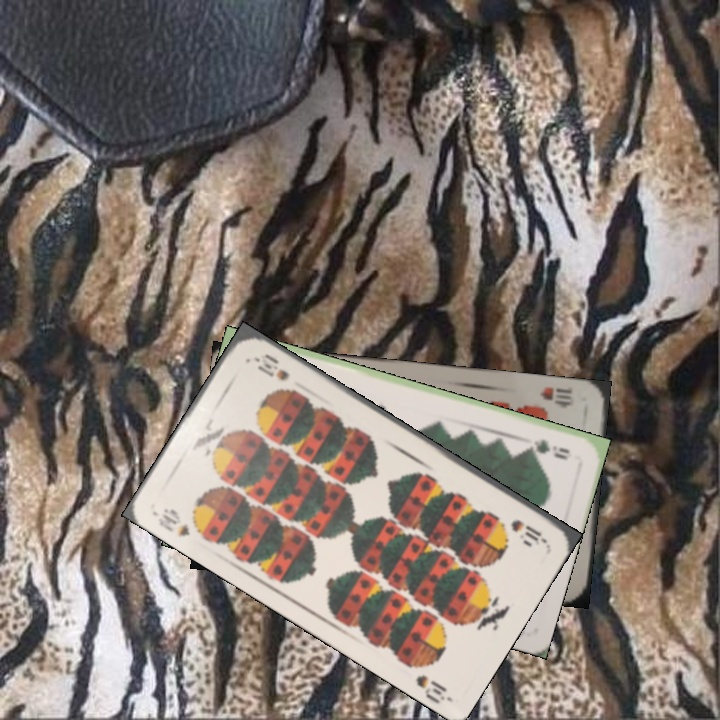G9: (521, 435, 573, 462)
H10: (535, 383, 577, 411)
S10: (153, 503, 193, 540), (506, 515, 548, 545)
